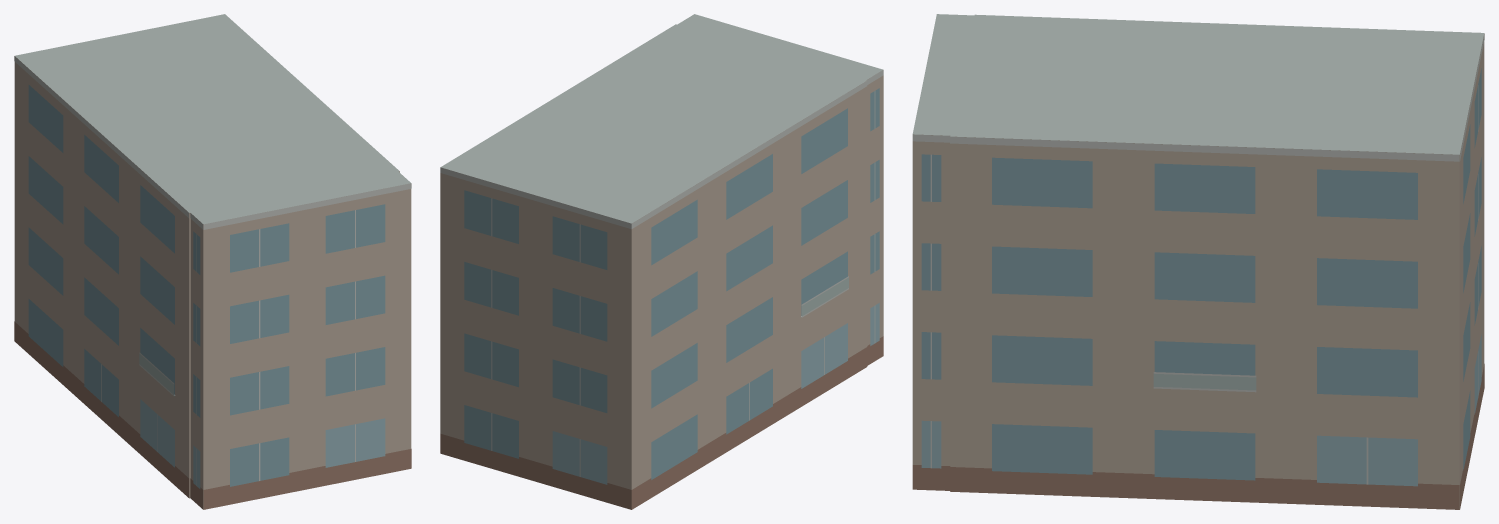
The model's file is survey-upis-32735202.glb.
3 renders of one model, left to right at view 1: azimuth 30°, elevation 25°; view 2: azimuth 150°, elevation 25°; view 3: azimuth 270°, elevation 25°, orthographic. The views are drawn at different scales.
Visible parts, largest first — view 1: survey-upis-32735202.tmp; view 2: survey-upis-32735202.tmp; view 3: survey-upis-32735202.tmp.
Boxes of the visible parts, x1,y1,x2,y2 form: survey-upis-32735202.tmp: (14, 14, 411, 509); survey-upis-32735202.tmp: (440, 14, 883, 509); survey-upis-32735202.tmp: (912, 14, 1484, 509).
Bounding box in the file's own units: 10.54 × 12.4 × 18.1.
